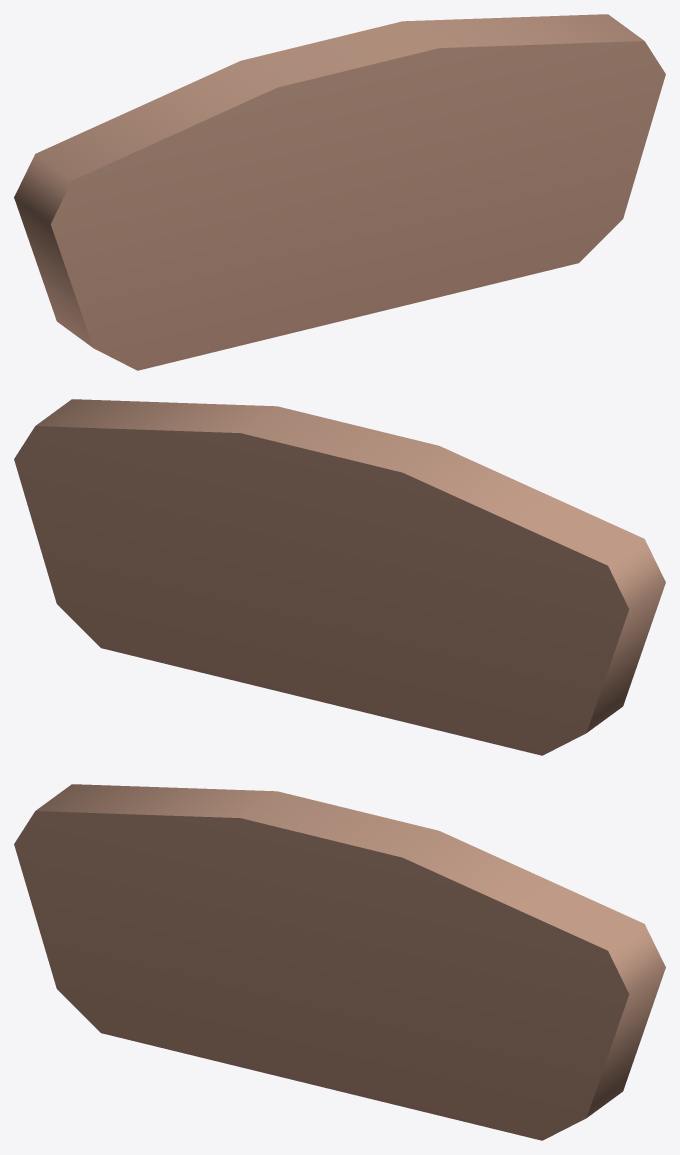
Rendered from plank-small-b.glb.
3 renders of one model, top to bottom at view 1: azimuth 30°, elevation 25°; view 2: azimuth 150°, elevation 25°; view 3: azimuth 330°, elevation 25°, orthographic.
Parts seen in each view (by area): view 1: plank-small-b; view 2: plank-small-b; view 3: plank-small-b.
Part boxes in pixels (x1,y1,x2,y2): plank-small-b: [14, 14, 665, 370]; plank-small-b: [14, 399, 665, 755]; plank-small-b: [14, 784, 665, 1140].
Bounding box in the file's own units: 0.4841 × 0.1873 × 0.05.
